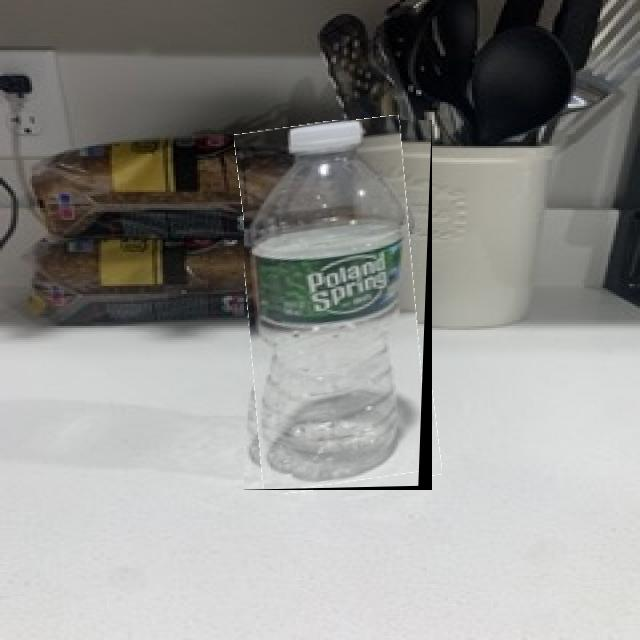water_bottle: (244, 120, 432, 490)
